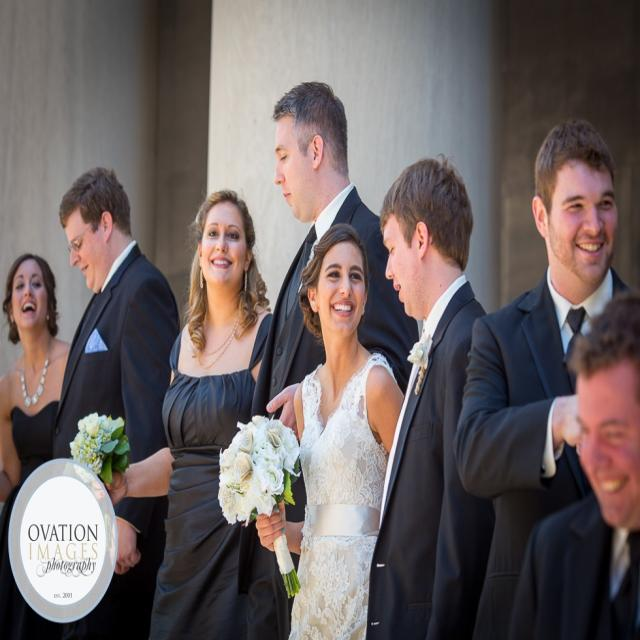body: (232, 76, 422, 639), (448, 115, 639, 639), (92, 185, 274, 640), (362, 154, 498, 640), (50, 165, 182, 639), (257, 220, 406, 638), (520, 283, 639, 639), (1, 253, 73, 502)
